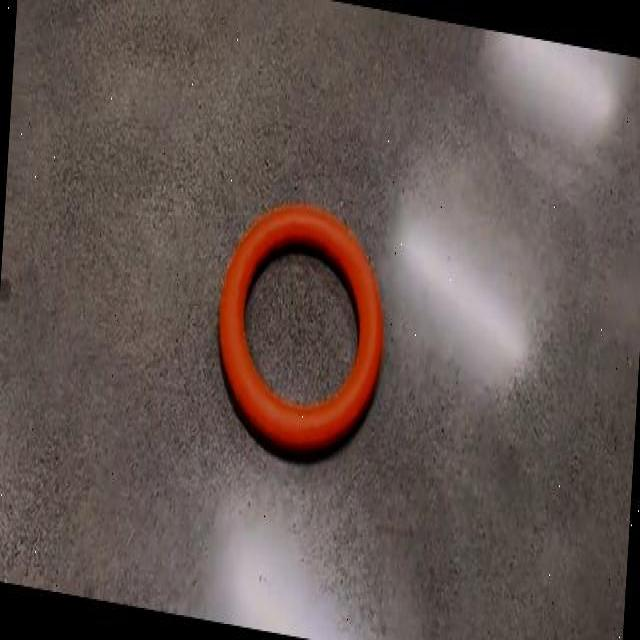note: (220, 206, 382, 453)
